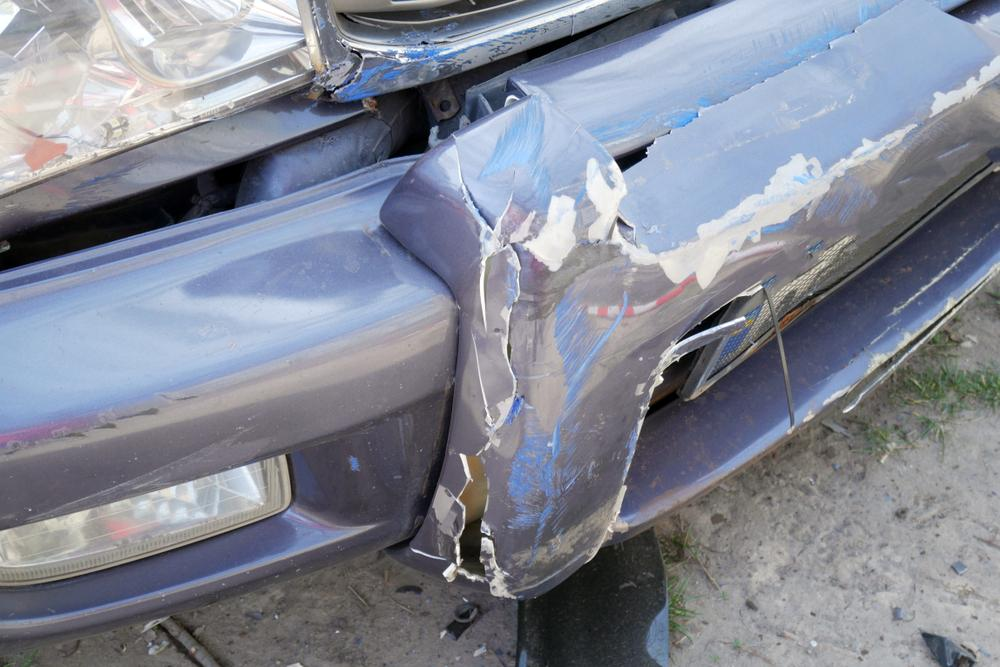crack: (452, 452, 490, 594)
scratch: (505, 286, 613, 573), (0, 386, 204, 463)
